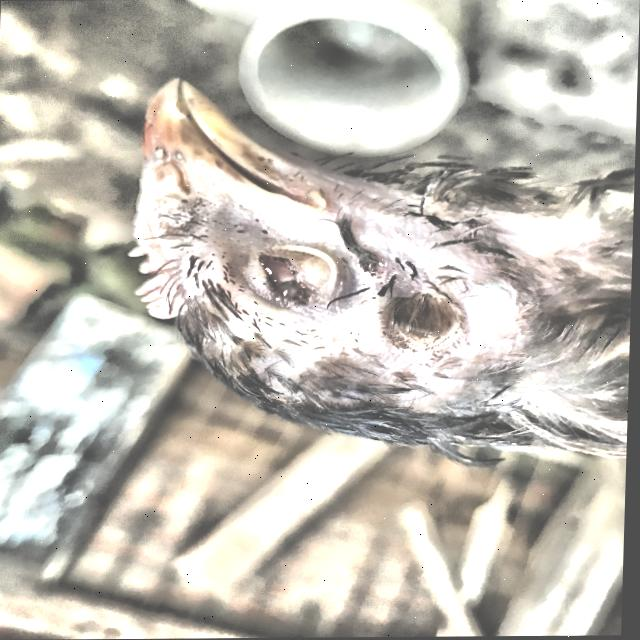Coryza: (55, 54, 639, 473)
